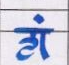anusvara: (34, 14, 44, 23)
